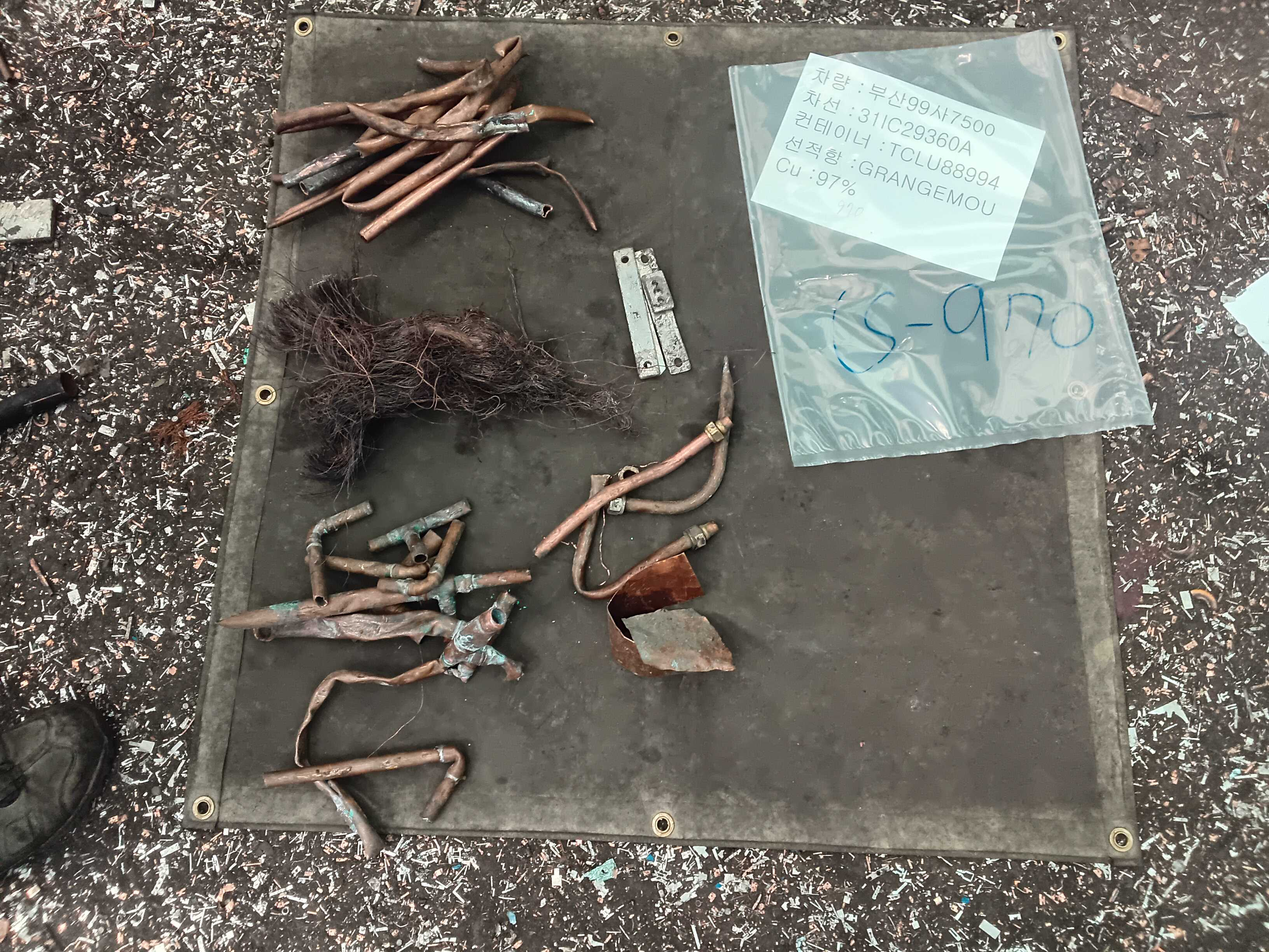Burnt_Wire: (267, 279, 631, 476)
Clean_Copper_Tubes_98: (277, 57, 532, 140)
Copper_Elbows_92: (260, 746, 467, 822), (304, 498, 375, 608)
Copper_Plates_93: (607, 552, 740, 673)
Tinned_Copper: (614, 245, 693, 381)
